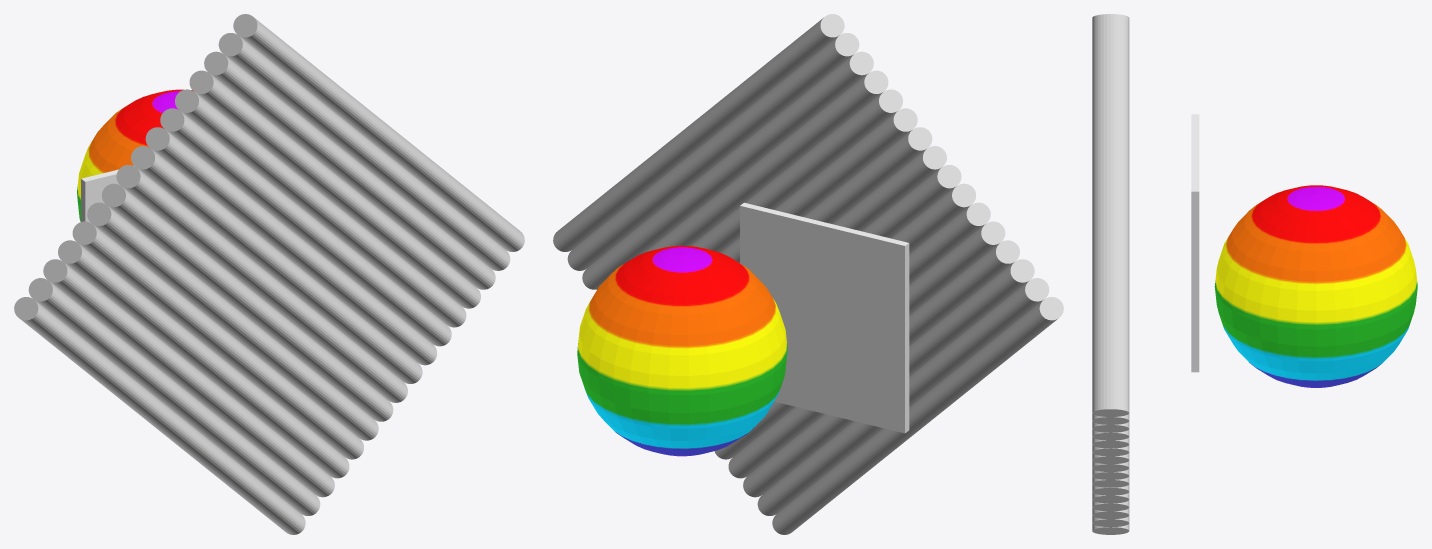
Rendered from rainbow.glb.
3 views of the same model, side by side, from view 1: azimuth 30°, elevation 25°; view 2: azimuth 150°, elevation 25°; view 3: azimuth 270°, elevation 25° (orthographic). The views are drawn at different scales.
Parts seen in each view (by area): view 1: Cilindro, Esfera, Cubo; view 2: Cilindro, Esfera, Cubo; view 3: Esfera, Cilindro, Cubo.
Part boxes in pixels (x1,y1,x2,y2): Cilindro: [14, 14, 524, 534]; Esfera: [77, 89, 193, 221]; Cubo: [81, 166, 134, 223]; Cilindro: [553, 14, 1063, 534]; Esfera: [577, 245, 787, 456]; Cubo: [740, 202, 909, 433]; Esfera: [1214, 185, 1417, 387]; Cilindro: [1092, 14, 1129, 534]; Cubo: [1191, 114, 1199, 372].
Bounding box in the file's own units: 37.6 × 37.6 × 21.97.
Materials: 3 (1 with a texture image).
